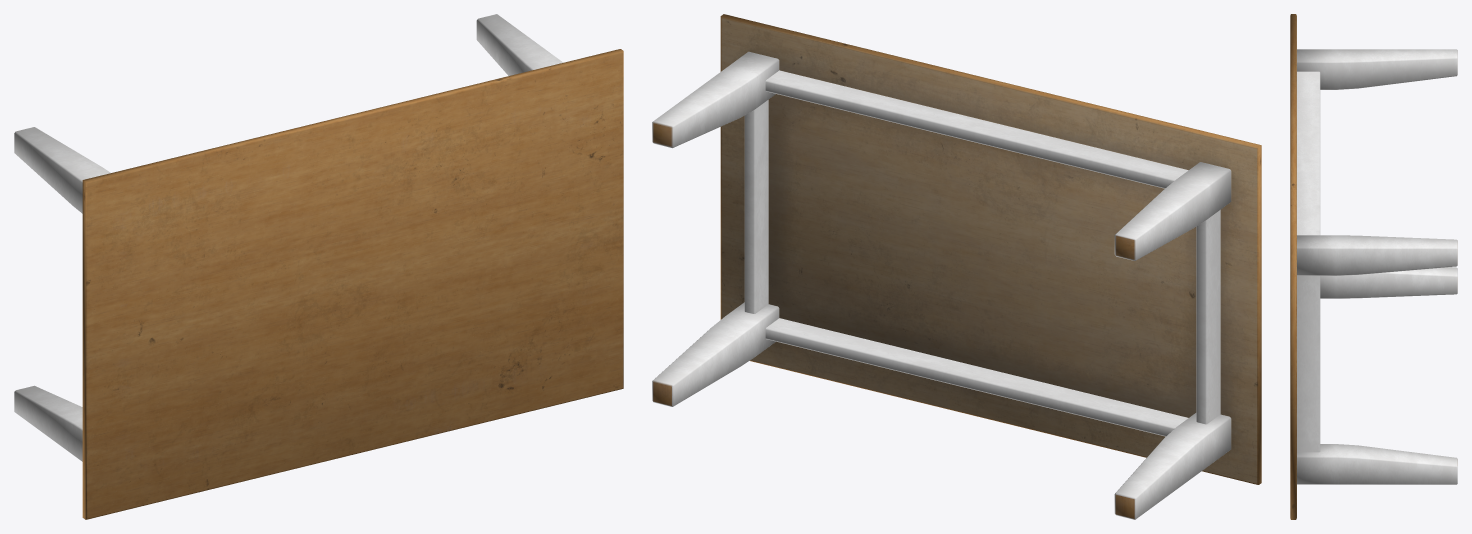
The model's file is tableobj.obj.
The picture shows the model from 3 angles, left to right: view 1: azimuth 30°, elevation 25°; view 2: azimuth 150°, elevation 25°; view 3: azimuth 270°, elevation 25°; orthographic projection. The views are drawn at different scales.
Visible parts, largest first — view 1: Plane; view 2: Plane; view 3: Plane.
Boxes of the visible parts, bbox=[...] form: Plane: bbox=[14, 14, 623, 519]; Plane: bbox=[652, 14, 1261, 519]; Plane: bbox=[1290, 14, 1457, 519].
Bounding box in the file's own units: 2.5 × 1.5 × 0.8.
